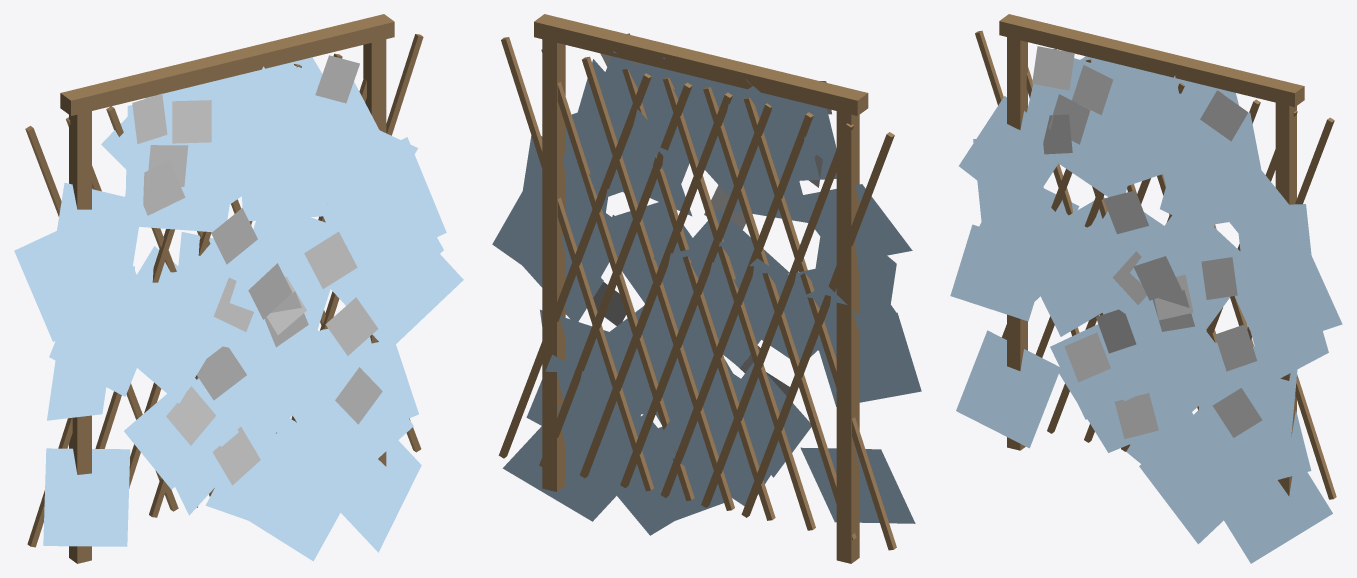
The model's file is rose_trellis.gltf.
3 views of the same model, side by side, from view 1: azimuth 30°, elevation 25°; view 2: azimuth 150°, elevation 25°; view 3: azimuth 330°, elevation 25° (orthographic). The views are drawn at different scales.
Parts seen in each view (by area): view 1: rose_trellis_Leaf_Dark, rose_trellis_Trellis_Wood, rose_trellis_Bloom_Red, rose_trellis_Bloom_Pink; view 2: rose_trellis_Leaf_Dark, rose_trellis_Trellis_Wood, rose_trellis_Bloom_Red, rose_trellis_Bloom_Pink; view 3: rose_trellis_Leaf_Dark, rose_trellis_Trellis_Wood, rose_trellis_Bloom_Red, rose_trellis_Bloom_Pink.
Boxes of the visible parts, box(x1,y1,x2,y2) form: rose_trellis_Leaf_Dark: box(14, 57, 463, 561); rose_trellis_Trellis_Wood: box(25, 14, 423, 563); rose_trellis_Bloom_Red: box(132, 55, 382, 424); rose_trellis_Bloom_Pink: box(166, 208, 357, 485); rose_trellis_Leaf_Dark: box(492, 51, 921, 535); rose_trellis_Trellis_Wood: box(498, 14, 896, 563); rose_trellis_Bloom_Red: box(593, 33, 831, 372); rose_trellis_Bloom_Pink: box(612, 185, 789, 395); rose_trellis_Leaf_Dark: box(950, 56, 1342, 563); rose_trellis_Trellis_Wood: box(975, 14, 1336, 499); rose_trellis_Bloom_Red: box(1032, 46, 1262, 437); rose_trellis_Bloom_Pink: box(1064, 190, 1237, 438).
Bounding box in the file's own units: 2.28 × 2.66 × 0.3506.
